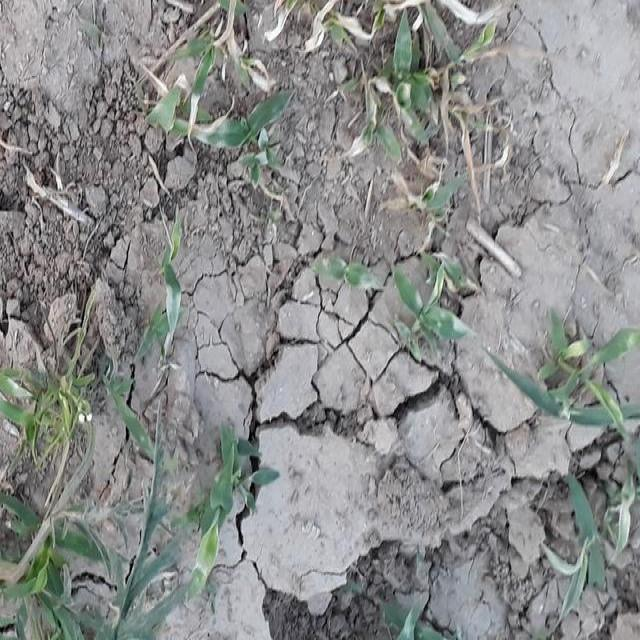weed: (154, 0, 509, 177), (4, 344, 189, 640)
